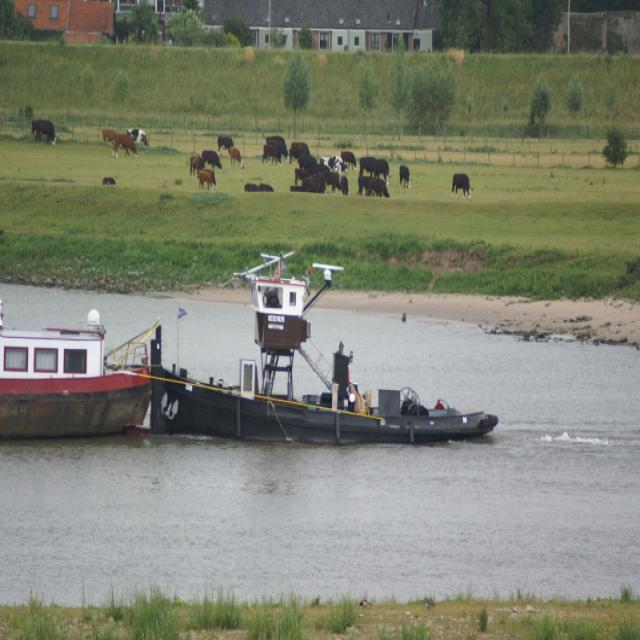tugboat: (147, 246, 505, 456)
